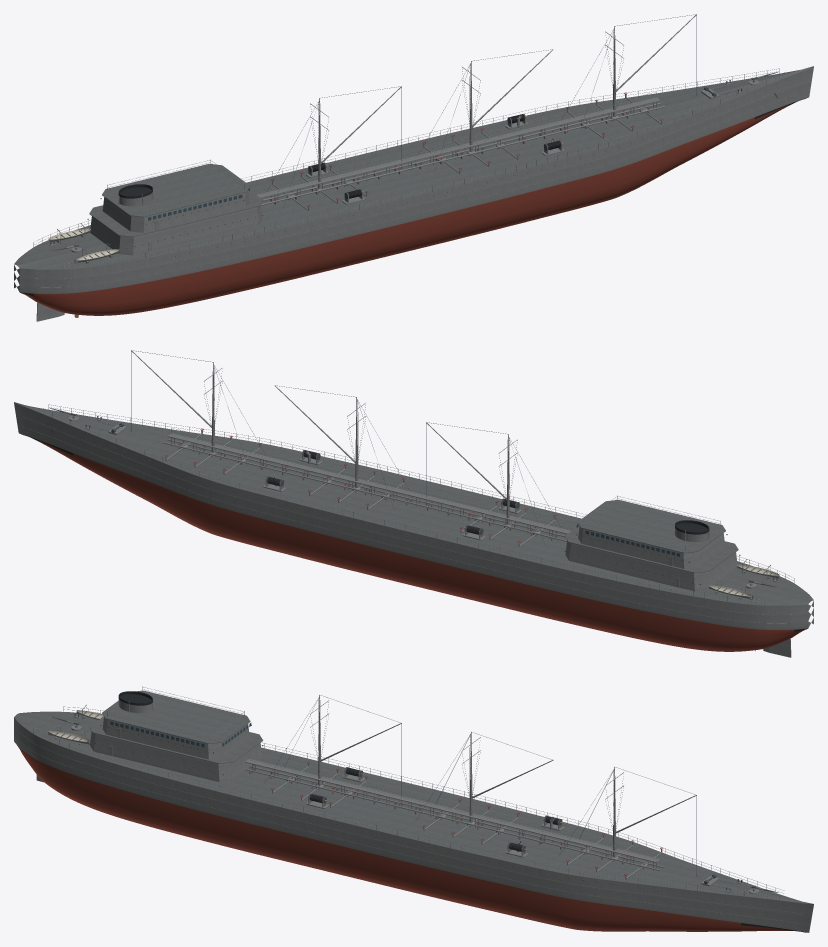
File: jp_support_1942.glb
3 views of the same model, one above another, from view 1: azimuth 30°, elevation 25°; view 2: azimuth 150°, elevation 25°; view 3: azimuth 330°, elevation 25° (orthographic).
Visible parts, largest first — view 1: Fleet support ship · 1942; view 2: Fleet support ship · 1942; view 3: Fleet support ship · 1942.
Part boxes in pixels (box(x1,y1,x2,y2)): Fleet support ship · 1942: box(14, 14, 813, 321); Fleet support ship · 1942: box(14, 350, 813, 657); Fleet support ship · 1942: box(14, 686, 813, 932).
Size of the model in its own units: 154 by 29.11 by 19.09.
Materials: 9 (2 with a texture image).
